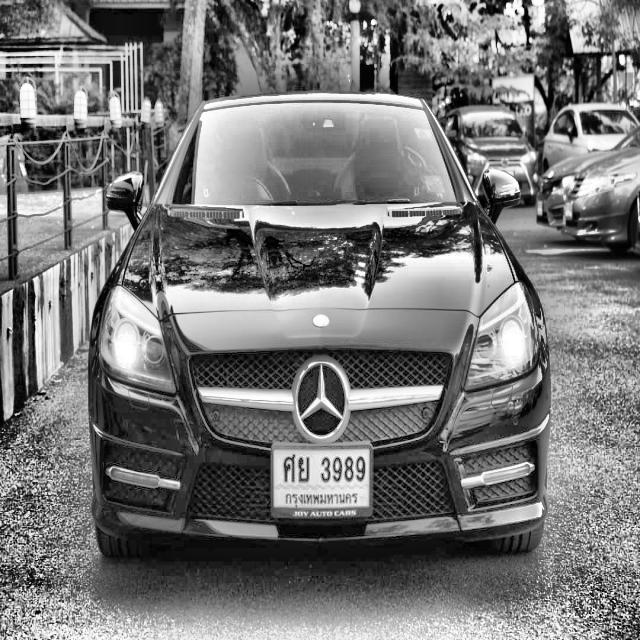license-plate: (268, 442, 374, 528)
